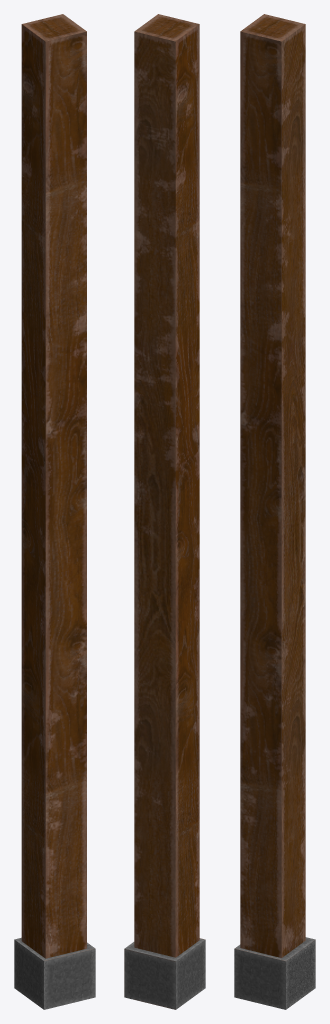
File: Wood_Stand_X_001.fbx
3 renders of one model, left to right at view 1: azimuth 30°, elevation 25°; view 2: azimuth 150°, elevation 25°; view 3: azimuth 330°, elevation 25°, orthographic.
Parts seen in each view (by area): view 1: Wood Stand X.001; view 2: Wood Stand X.001; view 3: Wood Stand X.001.
Boxes of the visible parts, x1,y1,x2,y2 form: Wood Stand X.001: (14,14,95,1009); Wood Stand X.001: (124,14,205,1009); Wood Stand X.001: (234,14,315,1009).
Bounding box in the file's own units: 25.2 × 451 × 25.2.
